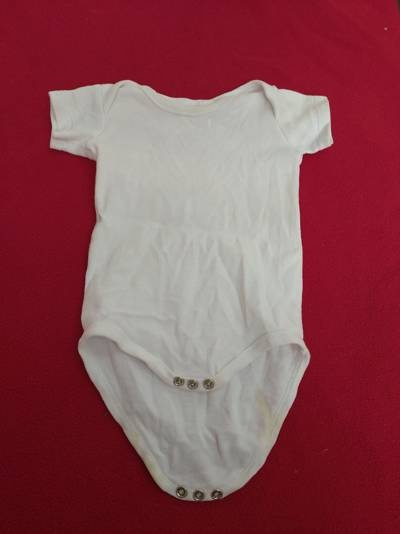Body: (33, 64, 366, 506)
